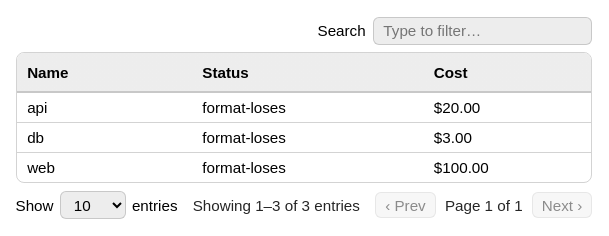
Test: DataTable cell snippets › renders the empty snippet instead of "No results found"
Type "zzz-no-hit" into the search field labelled "Search" at (483, 31), box [373,17,592,45]
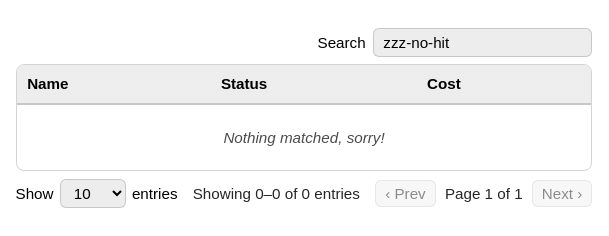
Check: the text with class "custom-empty" reads "Nothing matched, sorry!", box [223,129,385,146]
